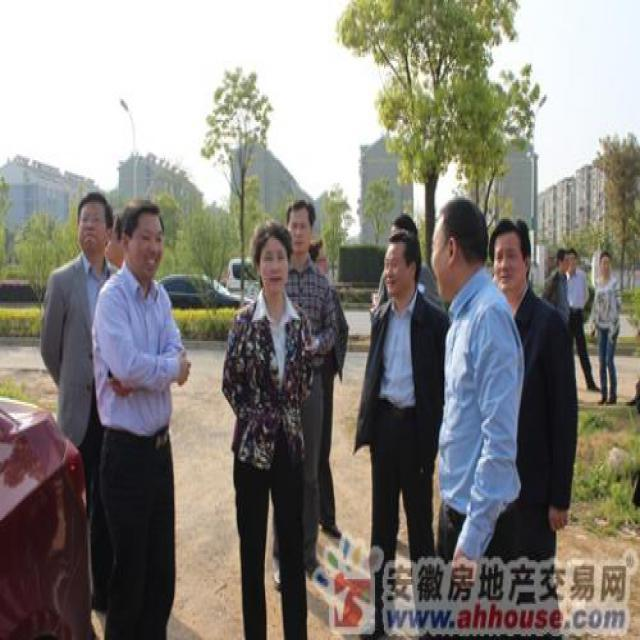head: (431, 193, 493, 300), (250, 212, 301, 304), (488, 218, 534, 302), (122, 197, 168, 279), (71, 186, 115, 266), (382, 216, 421, 302), (286, 192, 321, 260), (599, 247, 615, 279)
person: (92, 199, 195, 638), (216, 216, 323, 634), (423, 196, 525, 551), (488, 207, 584, 555), (353, 221, 449, 544), (34, 180, 114, 462), (279, 196, 354, 417), (582, 244, 633, 408)
